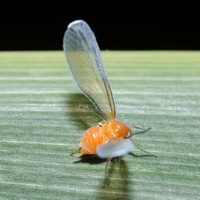insect: (63, 20, 134, 157)
